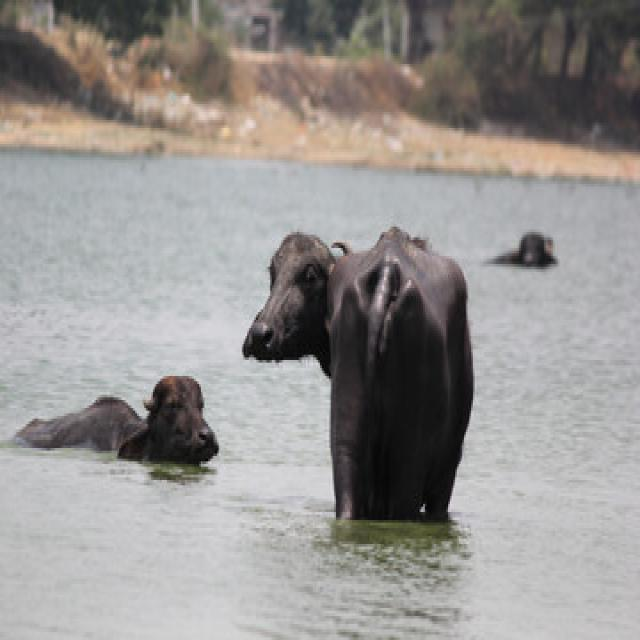Buffalo: (242, 228, 476, 525), (12, 374, 220, 465)
